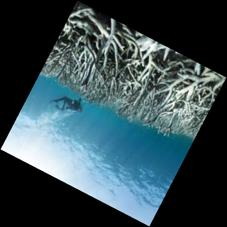bleached_corals: (39, 1, 227, 152)
